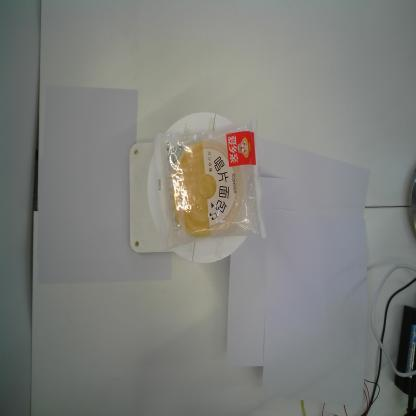Dessert: (152, 117, 269, 251)
